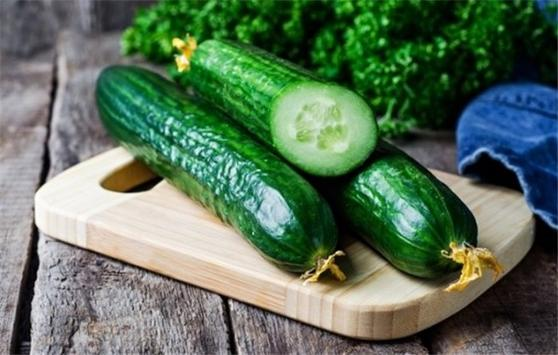cucumber: (87, 62, 347, 292)
